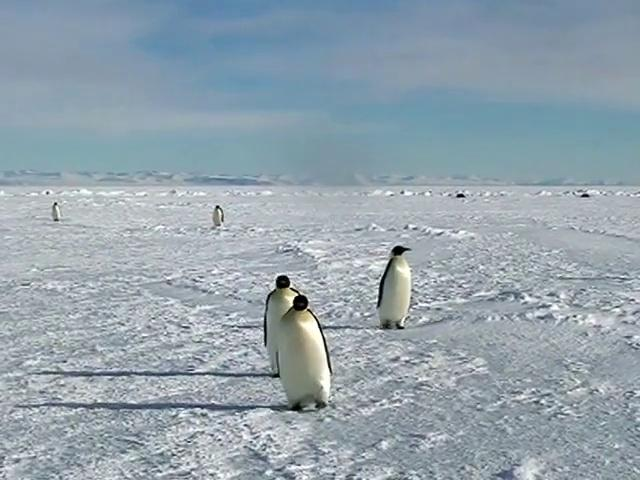animal: (379, 246, 412, 330)
